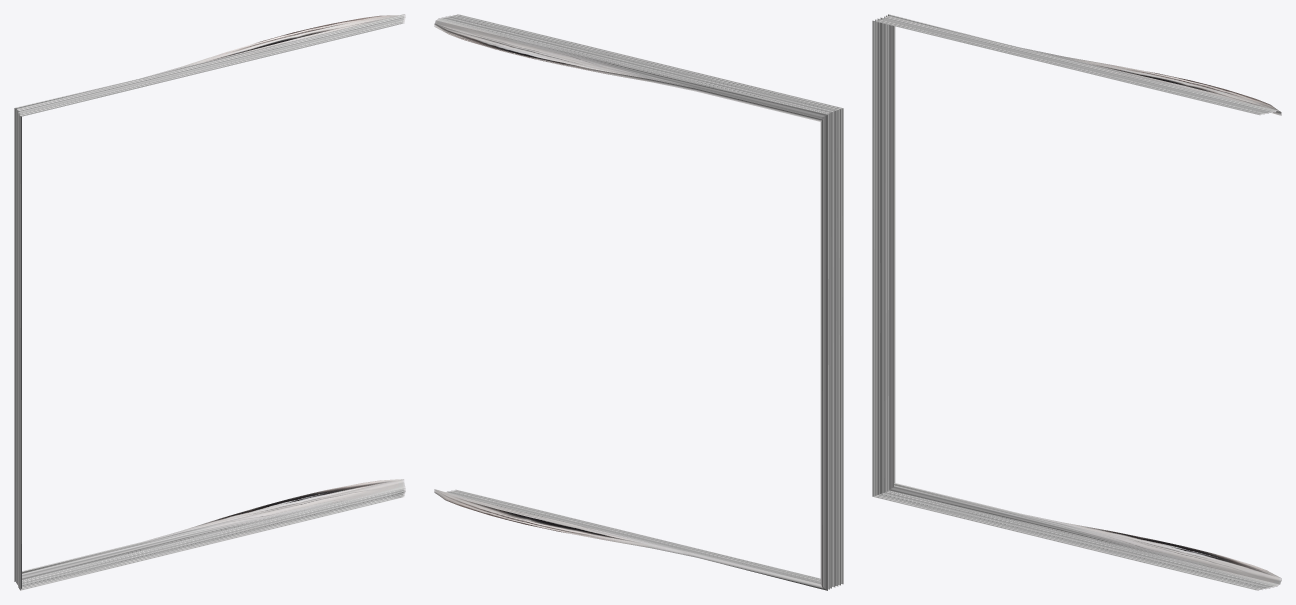
The model's file is MeshBookFront_22_1_GeomSubset_0.obj.
3 renders of one model, left to right at view 1: azimuth 30°, elevation 25°; view 2: azimuth 150°, elevation 25°; view 3: azimuth 330°, elevation 25°, orthographic.
Visible parts, largest first — view 1: MeshBookFront_22_1_GeomSubset_0; view 2: MeshBookFront_22_1_GeomSubset_0; view 3: MeshBookFront_22_1_GeomSubset_0.
Boxes of the visible parts, x1,y1,x2,y2 form: MeshBookFront_22_1_GeomSubset_0: [14, 14, 405, 590]; MeshBookFront_22_1_GeomSubset_0: [434, 14, 843, 590]; MeshBookFront_22_1_GeomSubset_0: [872, 14, 1281, 590].
Bounding box in the file's own units: 0.3169 × 0.3628 × 0.0305.
